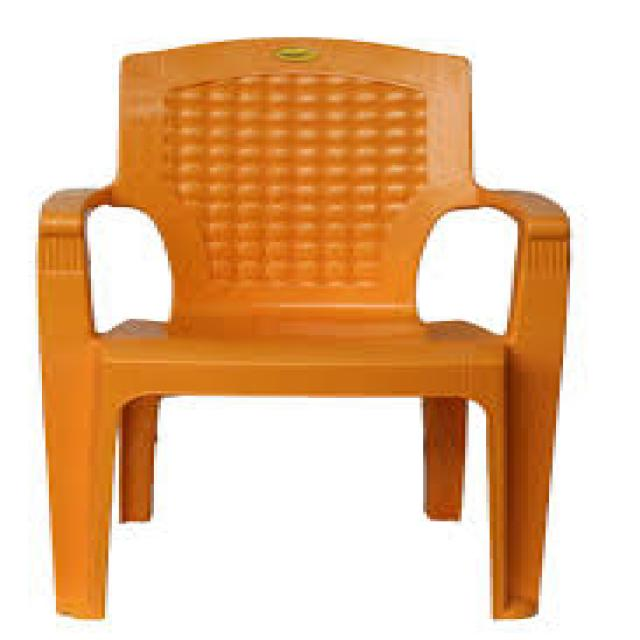chair: (38, 37, 562, 619)
